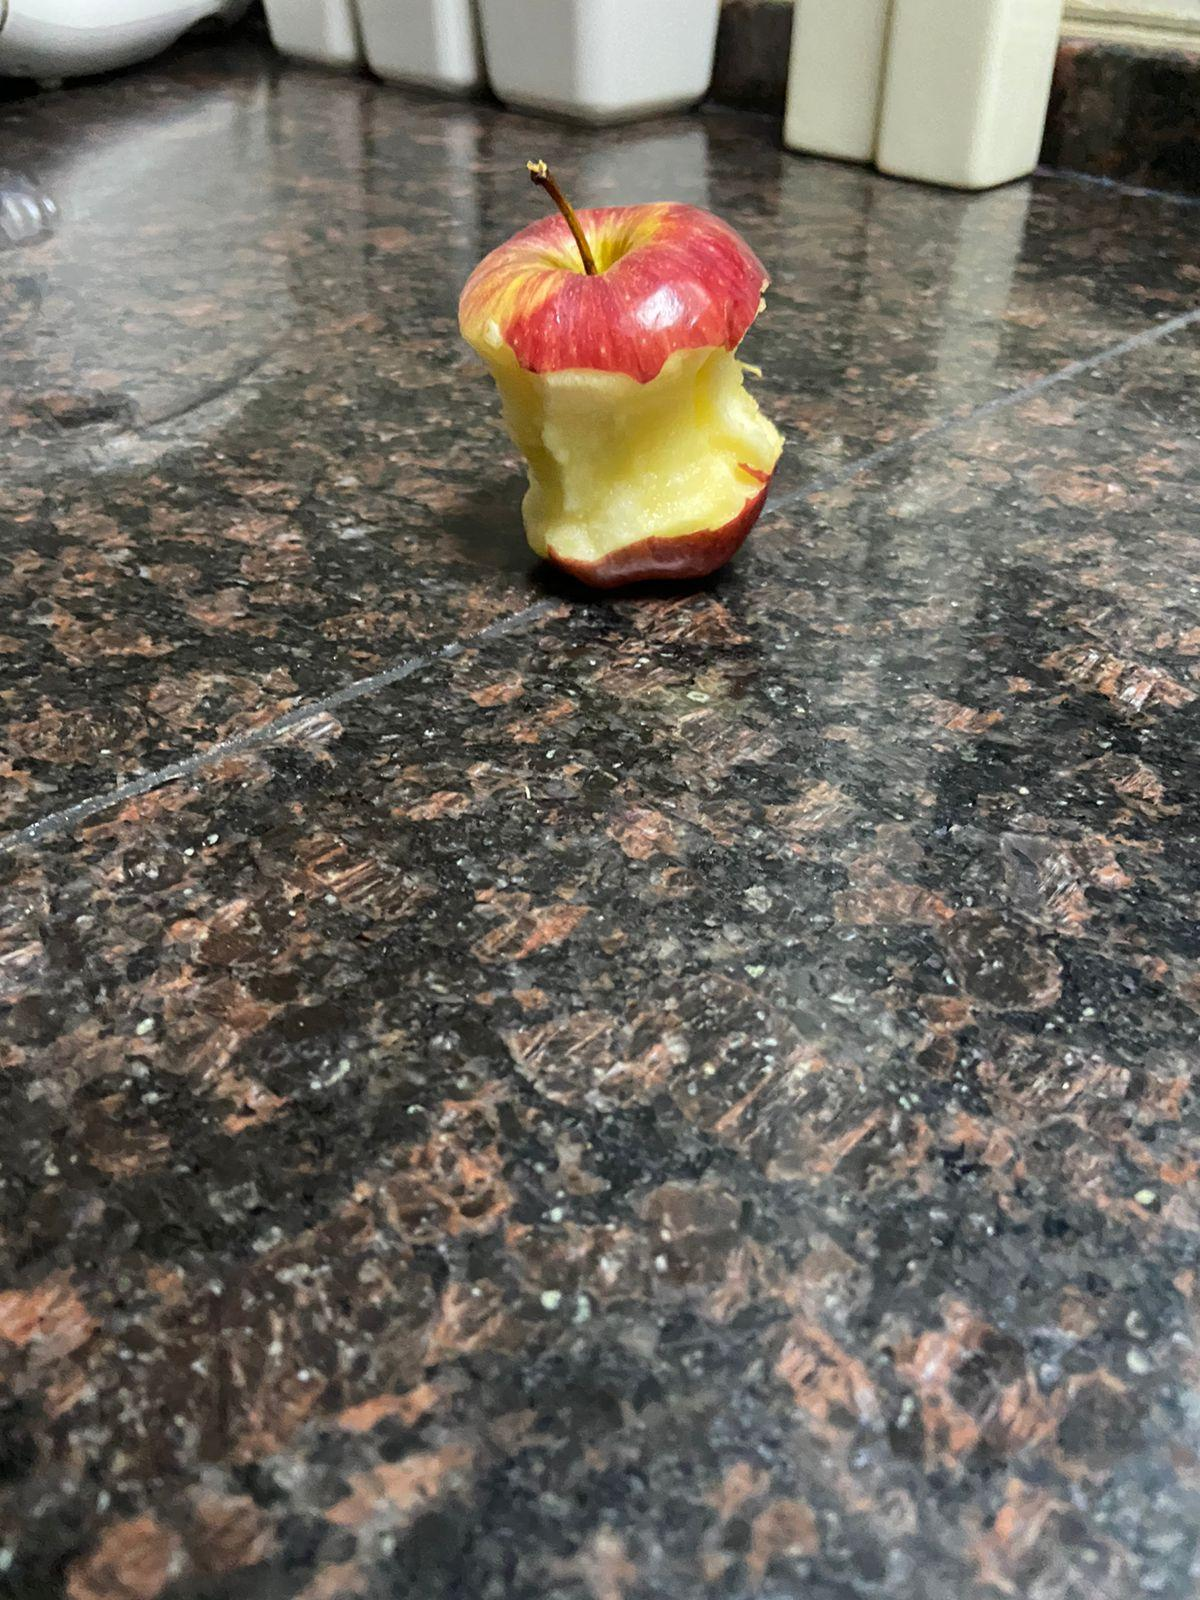Apple: (455, 152, 790, 590)
